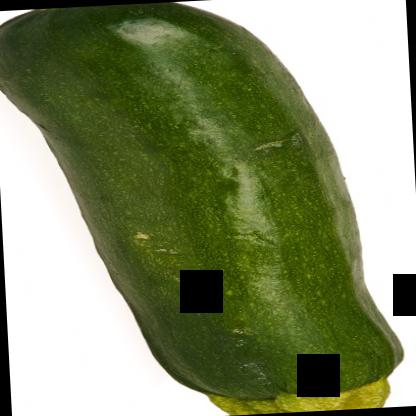cucumber: (0, 0, 403, 415)
